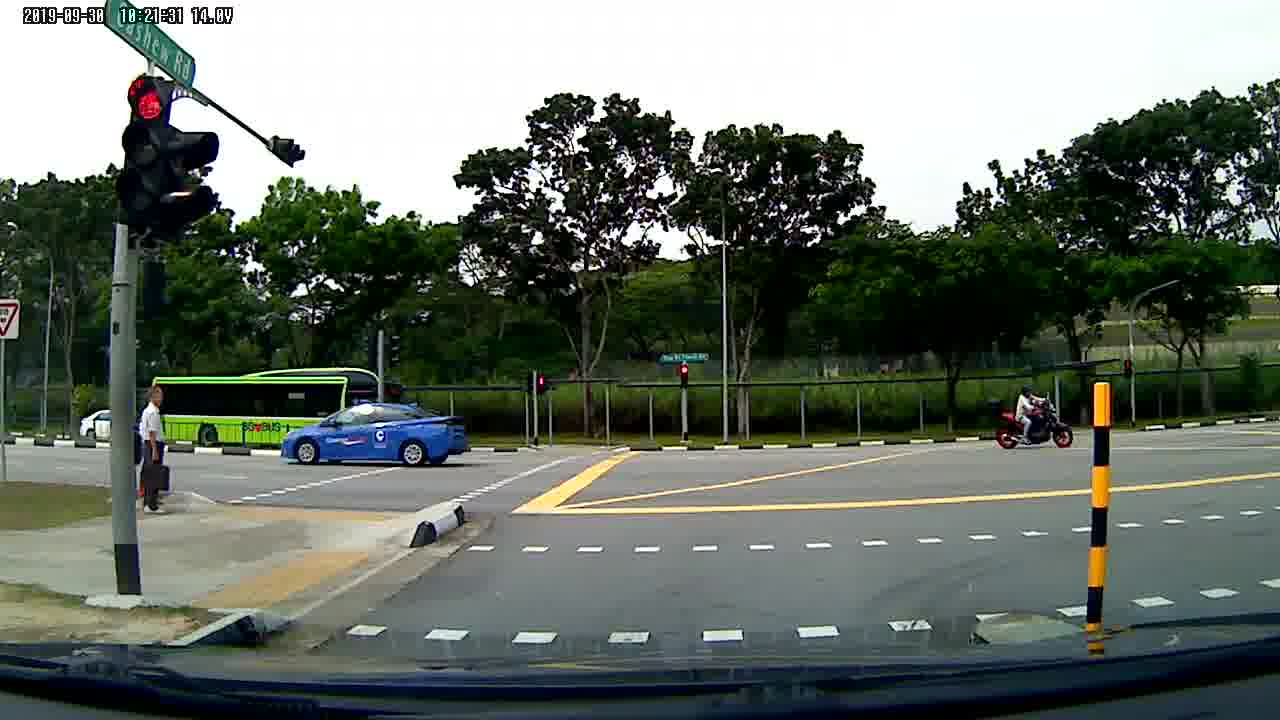bus: (148, 364, 398, 452)
car: (286, 401, 468, 474), (274, 405, 470, 468), (74, 409, 111, 438)
